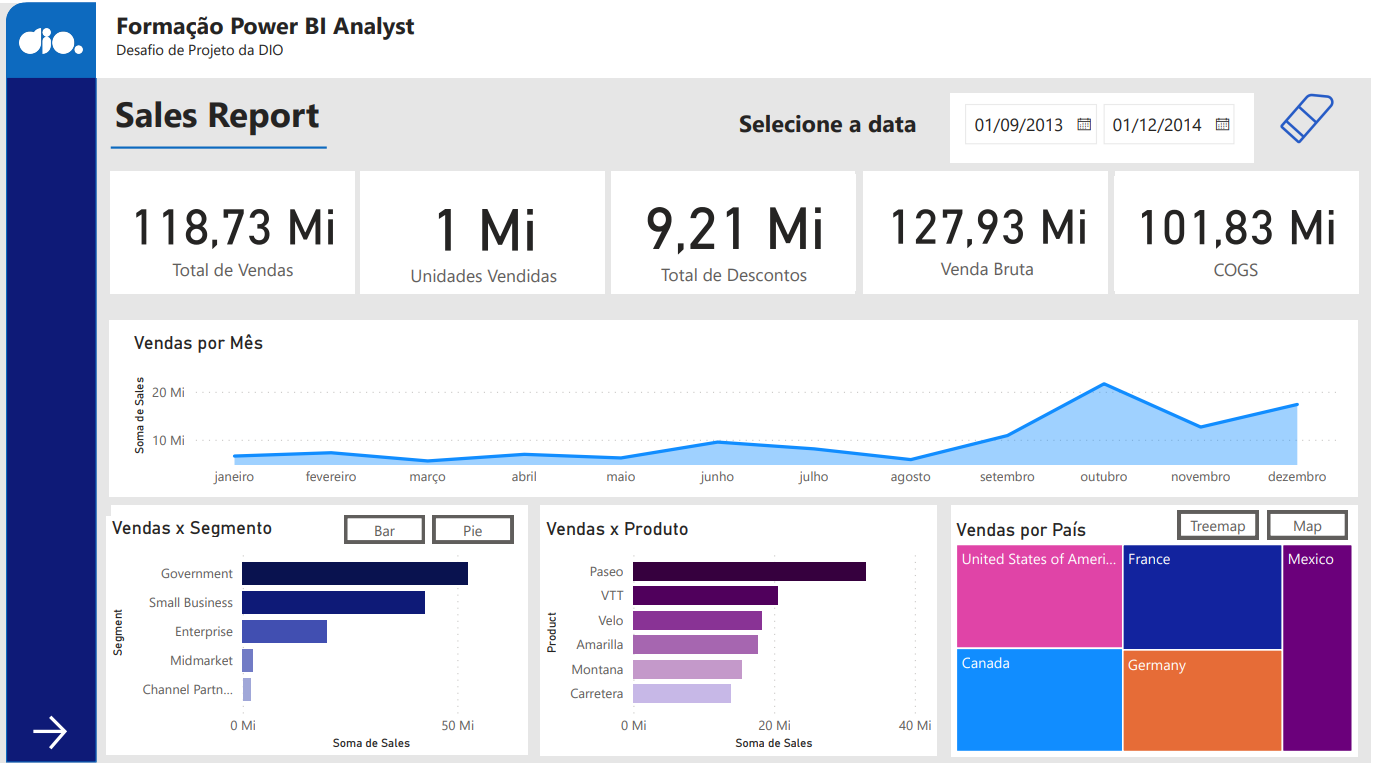

The dashboard page shown, as its layout file describes it:
{"tool":"powerbi","page":{"name":"Página 1","canvas":[1280,720],"ordinal":0},"visuals":[{"type":"shape","box":[0,12.2,1260.3,696.8],"z":0},{"type":"image","title":"Borracha","box":[1169.9,85.6,63.6,64.8],"z":0,"group":"g2"},{"type":"shape","box":[105.1,167.5,223.7,112.5],"z":0,"group":"g1"},{"type":"shape","box":[106.9,167.5,223.7,112.5],"z":0,"group":"g1"},{"type":"map","title":"Vendas por País","fields":{"Category":["financials.Country"],"Size":["Sum(financials. Sales)"]},"box":[875.2,484.1,372.8,218.8],"z":0,"group":"g4"},{"type":"shape","box":[8.6,12.2,83.1,696.8],"z":1000},{"type":"slicer","fields":{"Values":["financials.Date"]},"box":[875.3,94.2,277.5,64.8],"z":1000,"group":"g2"},{"type":"shape","box":[334.3,167.5,223.7,112.5],"z":1000,"group":"g1"},{"type":"shape","box":[337.9,167.5,223.7,112.5],"z":1000,"group":"g1"},{"type":"treemap","title":"Vendas por País","fields":{"Group":["financials.Country"],"Values":["Sum(financials. Sales)"]},"box":[875.2,485.3,372.8,218.8],"z":1000,"group":"g4"},{"type":"actionButton","title":"Botão - treemap","box":[1083,478,74.6,25.7],"z":1500,"group":"g4"},{"type":"shape","box":[8.6,12.2,83.1,68.5],"z":2000},{"type":"textbox","box":[676,102.7,185.8,50.1],"z":2000,"group":"g2"},{"type":"shape","box":[563.8,167.5,223.7,112.5],"z":2000,"group":"g1"},{"type":"shape","box":[567.4,167.5,223.7,112.5],"z":2000,"group":"g1"},{"type":"actionButton","title":"Botão - map","box":[1164.9,478,74.6,25.7],"z":2000,"group":"g4"},{"type":"clusteredBarChart","title":"Vendas x Segmento","fields":{"Category":["financials.Segment"],"Y":["Sum(financials. Sales)"]},"box":[101.5,482.8,381.4,218.8],"z":2000,"group":"g3"},{"type":"image","box":[15.9,13.4,68.5,68.5],"z":3000},{"type":"shape","box":[795.2,167.5,223.7,112.5],"z":3000,"group":"g1"},{"type":"shape","box":[798.8,167.5,223.7,112.5],"z":3000,"group":"g1"},{"type":"actionButton","title":"Botão - pie","box":[400,481.8,74.6,25.7],"z":3250,"group":"g3"},{"type":"actionButton","title":"Botão - bar","box":[319.3,481.8,74.6,25.7],"z":3500,"group":"g3"},{"type":"shape","box":[91.7,12.2,1177.2,68.5],"z":4000},{"type":"shape","box":[1025.9,167.5,223.7,112.5],"z":4000,"group":"g1"},{"type":"shape","box":[1029.5,167.5,223.7,112.5],"z":4000,"group":"g1"},{"type":"group","id":"g1","title":"Cartões","box":[105.1,167.5,1148.1,112.5],"z":5000},{"type":"card","fields":{"Values":["Sum(financials.Units Sold)"]},"box":[339.8,171.2,213.9,106.3],"z":5000,"group":"g1"},{"type":"card","fields":{"Values":["Sum(financials.COGS)"]},"box":[1025.6,171.2,222.5,105.1],"z":5250,"group":"g1"},{"type":"card","fields":{"Values":["Sum(financials.Discounts)"]},"box":[564.7,169.9,223.7,106.3],"z":5375,"group":"g1"},{"type":"card","fields":{"Values":["Sum(financials. Sales)"]},"box":[105.1,167.5,223.7,112.5],"z":5500,"group":"g1"},{"type":"textbox","box":[105.1,13.4,687,67.2],"z":6000},{"type":"shape","box":[105.1,130.8,198,28.1],"z":7000},{"type":"textbox","box":[103.9,85.6,299.5,59.9],"z":8000},{"type":"shape","box":[103.9,303.2,1144.2,161.4],"z":9000},{"type":"shape","box":[105.1,473.1,381.4,228.6],"z":10000},{"type":"shape","box":[498.7,473.1,363.1,229.8],"z":11000},{"type":"shape","box":[875.2,473.1,372.8,228.6],"z":12000},{"type":"areaChart","title":"Vendas por Mês","fields":{"Category":["financials.Date.Variation.Hierarquia de datas.Mês"],"Y":["Sum(financials. Sales)"]},"box":[121,314.2,1112.4,150.4],"z":13000},{"type":"clusteredBarChart","title":"Vendas x Produto","fields":{"Y":["Sum(financials. Sales)"],"Category":["financials.Product"]},"box":[498.7,484.1,363.1,217.6],"z":14000},{"type":"group","id":"g2","title":"Filtro por data","box":[676,85.6,557.4,73.3],"z":15000},{"type":"group","id":"g3","title":"Vendas x Segmento","box":[101.5,481.6,383.8,220],"z":16000},{"type":"group","id":"g4","title":"Vendas por País","box":[875.2,478,372.8,226.1],"z":17000},{"type":"actionButton","box":[28.1,661.3,44,40.3],"z":18000},{"type":"card","fields":{"Values":["Sum(financials.Gross Sales)"]},"box":[799.5,168.7,218.8,108.8],"z":19000}]}

Visuals, with their boxes on the page's 1280x720 design canvas (x1, y1, x2, y2). These are canvas units, not pixel positions in the 1375x765 screenshot, which may show the page scaled, cropped or inside an application window:
shape: box=[0, 12, 1260, 709]
"Borracha" image: box=[1170, 86, 1234, 150]
shape: box=[105, 168, 329, 280]
shape: box=[107, 168, 331, 280]
"Vendas por País" map: box=[875, 484, 1248, 703]
shape: box=[9, 12, 92, 709]
slicer - financials.Date: box=[875, 94, 1153, 159]
shape: box=[334, 168, 558, 280]
shape: box=[338, 168, 562, 280]
"Vendas por País" treemap: box=[875, 485, 1248, 704]
"Botão - treemap" actionButton: box=[1083, 478, 1158, 504]
shape: box=[9, 12, 92, 81]
textbox: box=[676, 103, 862, 153]
shape: box=[564, 168, 788, 280]
shape: box=[567, 168, 791, 280]
"Botão - map" actionButton: box=[1165, 478, 1240, 504]
"Vendas x Segmento" clusteredBarChart: box=[102, 483, 483, 702]
image: box=[16, 13, 84, 82]
shape: box=[795, 168, 1019, 280]
shape: box=[799, 168, 1022, 280]
"Botão - pie" actionButton: box=[400, 482, 475, 508]
"Botão - bar" actionButton: box=[319, 482, 394, 508]
shape: box=[92, 12, 1269, 81]
shape: box=[1026, 168, 1250, 280]
shape: box=[1030, 168, 1253, 280]
"Cartões" group: box=[105, 168, 1253, 280]
card - Sum(financials.Units Sold): box=[340, 171, 554, 278]
card - Sum(financials.COGS): box=[1026, 171, 1248, 276]
card - Sum(financials.Discounts): box=[565, 170, 788, 276]
card - Sum(financials. Sales): box=[105, 168, 329, 280]
textbox: box=[105, 13, 792, 81]
shape: box=[105, 131, 303, 159]
textbox: box=[104, 86, 403, 146]
shape: box=[104, 303, 1248, 465]
shape: box=[105, 473, 486, 702]
shape: box=[499, 473, 862, 703]
shape: box=[875, 473, 1248, 702]
"Vendas por Mês" areaChart: box=[121, 314, 1233, 465]
"Vendas x Produto" clusteredBarChart: box=[499, 484, 862, 702]
"Filtro por data" group: box=[676, 86, 1233, 159]
"Vendas x Segmento" group: box=[102, 482, 485, 702]
"Vendas por País" group: box=[875, 478, 1248, 704]
actionButton: box=[28, 661, 72, 702]
card - Sum(financials.Gross Sales): box=[800, 169, 1018, 278]
